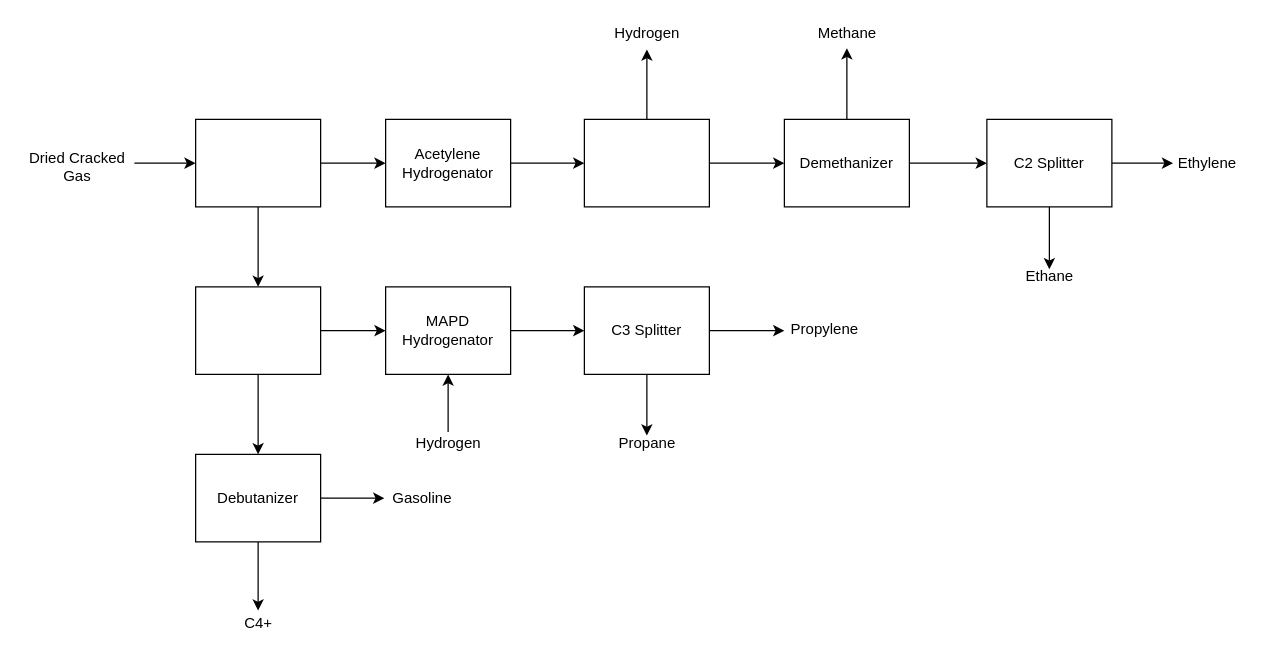
This 1263x655 diagram has some shape labels left out. The shapes that lost their labels are listed below. From the top down, each one's centre as x and y in pixels, then its label:
At pixel 257 162: "Deethanizer".
At pixel 646 162: "Cold Box".
At pixel 257 330: "Depropanizer".
